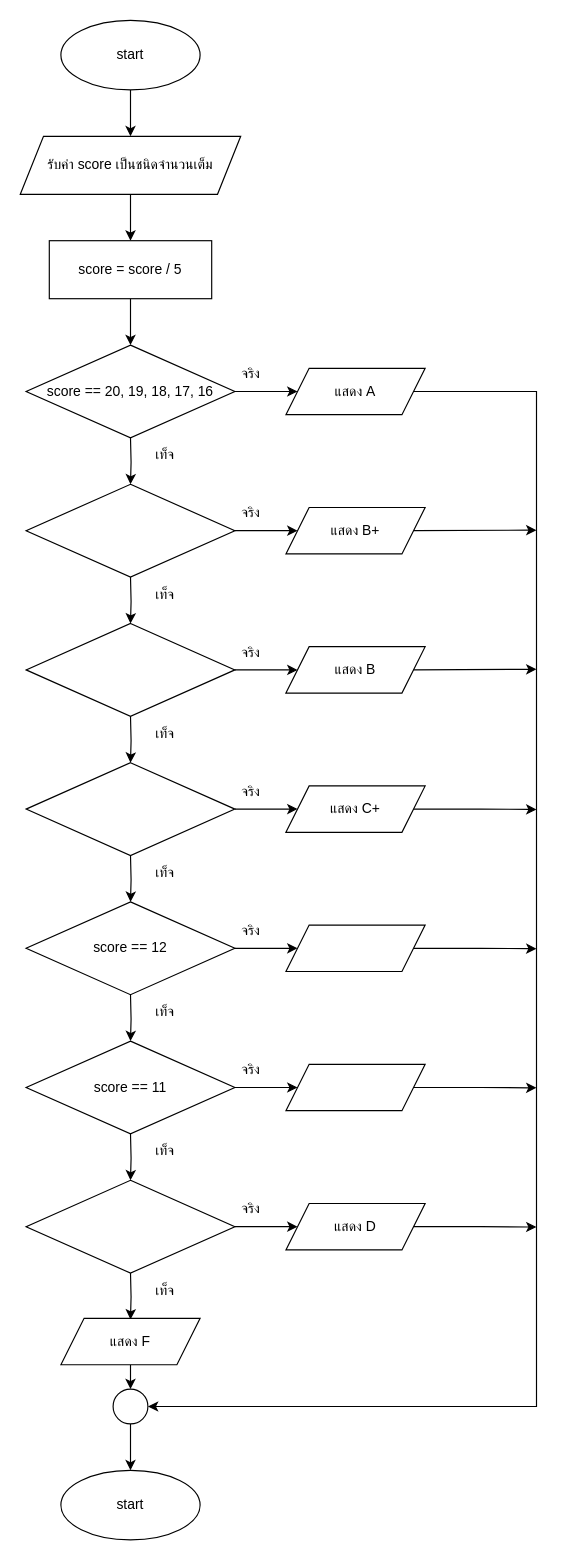
The diagram is 566 pixels wide and 1560 high, and some of its shapes have lost their labels. Each missing label, with the centre of its shape:
"score == 10" belongs at (x=130, y=1226).
"score == 13" belongs at (x=130, y=808).
"score == 14" belongs at (x=130, y=669).
"score == 15" belongs at (x=130, y=530).
"แสดง C" belongs at (x=355, y=947).
"แสดง D+" belongs at (x=355, y=1087).
